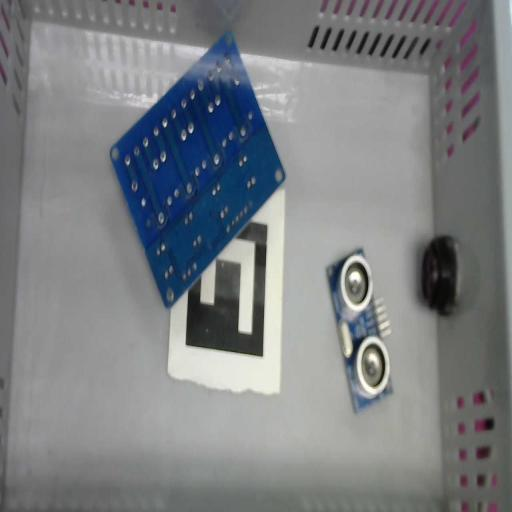QR: (183, 222, 268, 360)
relay_module: (108, 29, 287, 312)
ultrasonic_hc-sr04: (325, 246, 394, 415)
